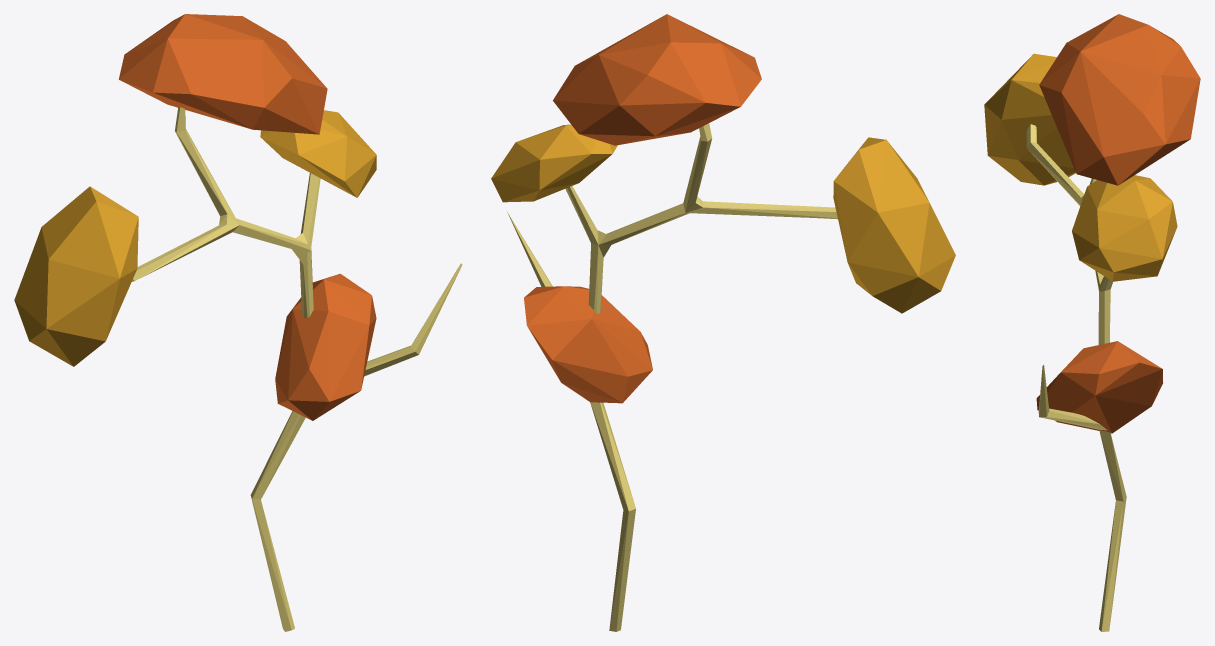
The model's file is Tree_1_Autumn.fbx.
3 views of the same model, side by side, from view 1: azimuth 30°, elevation 25°; view 2: azimuth 150°, elevation 25°; view 3: azimuth 270°, elevation 25° (orthographic). The views are drawn at different scales.
Visible parts, largest first — view 1: Tree_1_Autumn; view 2: Tree_1_Autumn; view 3: Tree_1_Autumn.
Boxes of the visible parts, box(x1,y1,x2,y2) form: Tree_1_Autumn: box(14, 14, 462, 631); Tree_1_Autumn: box(491, 14, 955, 631); Tree_1_Autumn: box(984, 14, 1200, 631).
Size of the model in its own units: 464 by 635 by 218.
